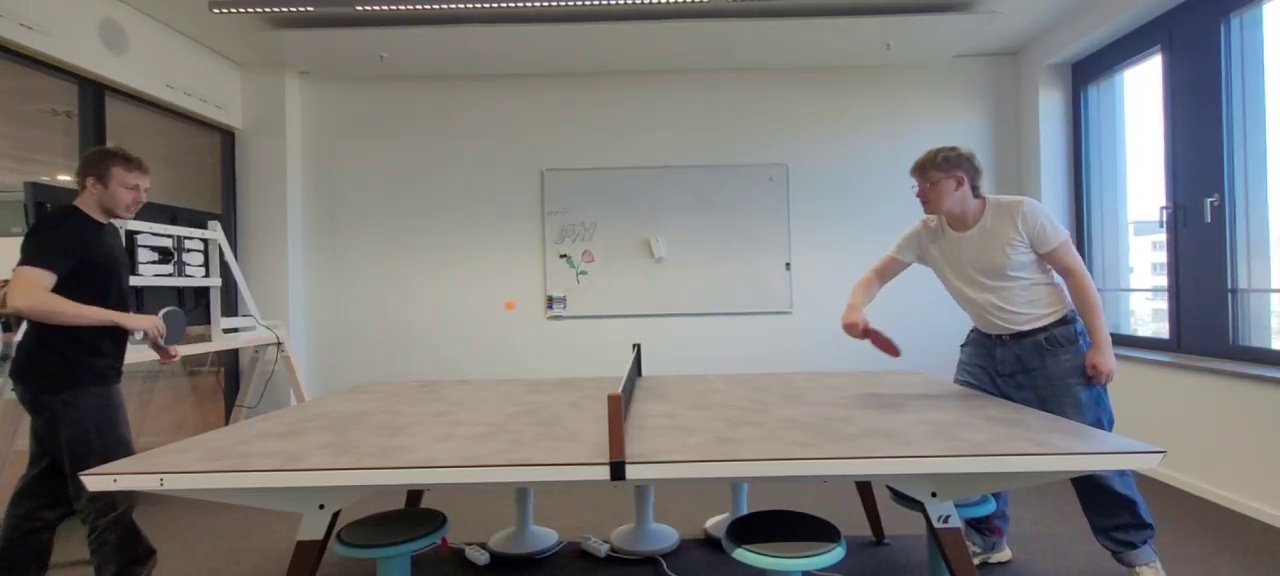plate: (77, 368, 1166, 474)
racket: (157, 307, 186, 345), (867, 328, 901, 357)
ttball: (506, 300, 516, 309)
